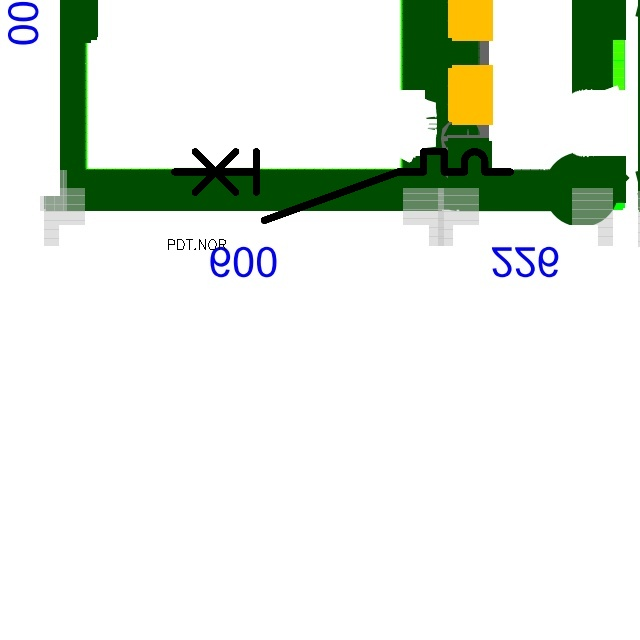interruptor_termomagnetico: (166, 143, 519, 229)
